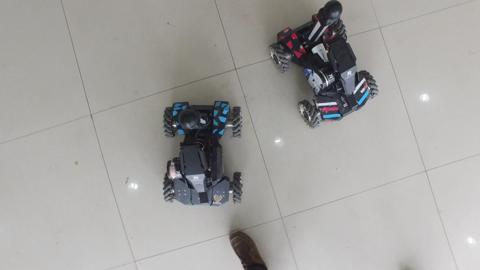chariot: (265, 1, 383, 138), (156, 95, 248, 210)
